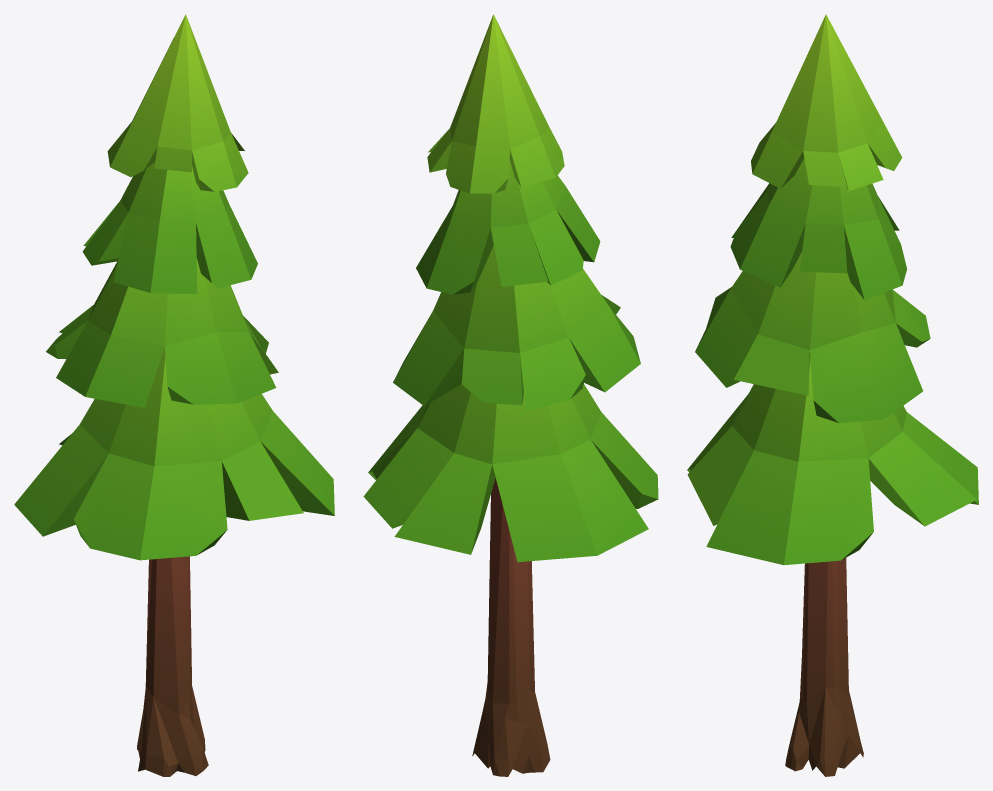
File: tree3.fbx
3 views of the same model, side by side, from view 1: azimuth 30°, elevation 25°; view 2: azimuth 150°, elevation 25°; view 3: azimuth 270°, elevation 25° (orthographic).
Parts seen in each view (by area): view 1: SM_Tree4; view 2: SM_Tree4; view 3: SM_Tree4.
Boxes of the visible parts, x1,y1,x2,y2 form: SM_Tree4: (14, 14, 334, 776); SM_Tree4: (363, 14, 658, 776); SM_Tree4: (687, 14, 978, 776).
Bounding box in the file's own units: 468 × 1207 × 422.
2 materials, 2 textured.
